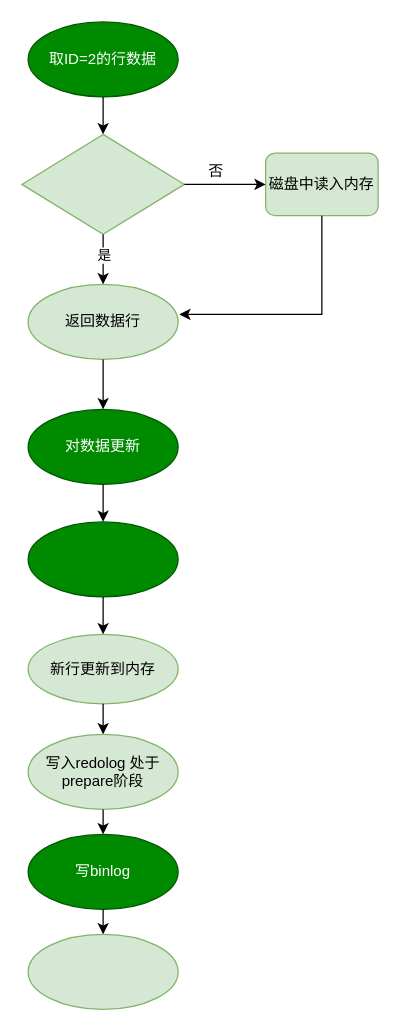
The diagram is 400 pixels wide and 1031 high, and some of its shapes have lost their labels. Each missing label, with the box of its shape:
写入新行: (27, 521, 178, 597)
提交事务处于commit状态: (27, 933, 178, 1009)
数据在内存中: (21, 133, 184, 234)
